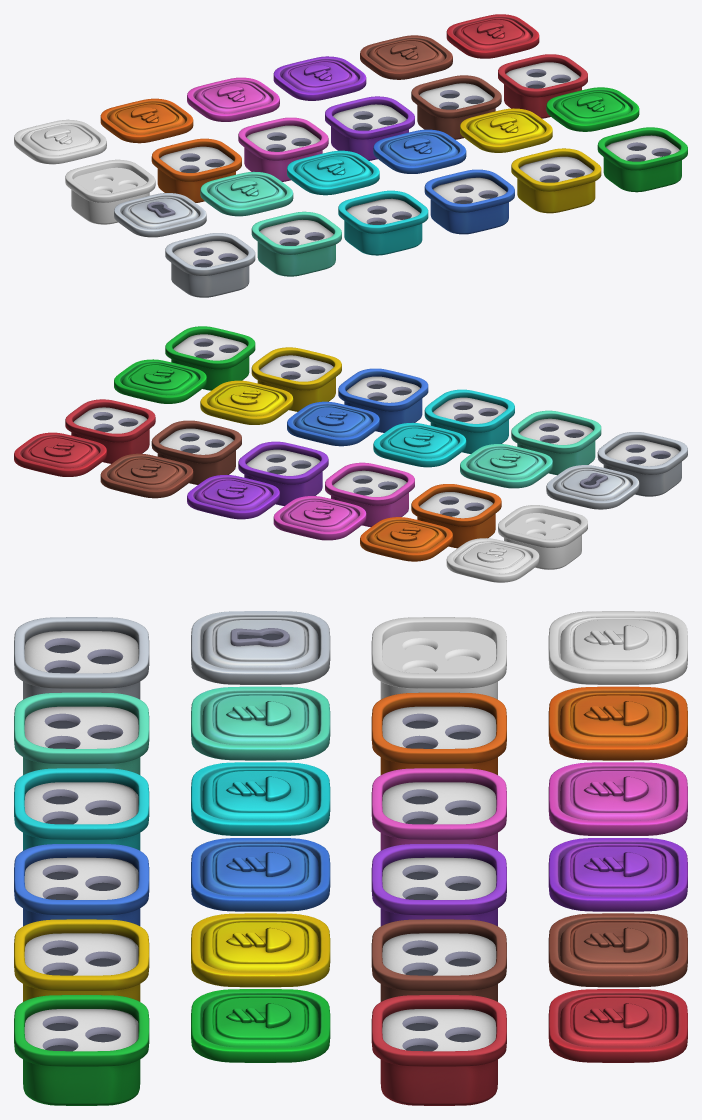
The model's file is pack_tray_lid_new.fbx.
3 views of the same model, one above another, from view 1: azimuth 30°, elevation 25°; view 2: azimuth 150°, elevation 25°; view 3: azimuth 270°, elevation 25° (orthographic). The views are drawn at different scales.
Parts seen in each view (by area): view 1: obj_tray_cyan, obj_tray_yellow, obj_tray_blue, obj_tray_green, obj_tray_unblock, obj_tray_gray, obj_tray_begie, obj_tray_orange, obj_tray_brown, obj_tray_pink, obj_tray_pur, obj_tray_red (+12 smaller); view 2: obj_tray_unblock, obj_tray_begie, obj_tray_green, obj_tray_red, obj_tray_gray, obj_tray_blue, obj_tray_pur, obj_tray_orange, obj_tray_brown, obj_tray_yellow, obj_tray_cyan, obj_tray_pink (+12 smaller); view 3: obj_tray_green, obj_tray_red, obj_tray_gray, obj_tray_orange, obj_tray_brown, obj_tray_yellow, obj_tray_cyan, obj_tray_pink, obj_tray_unblock, obj_tray_pur, obj_tray_blue, obj_tray_begie (+12 smaller).
Part boxes in pixels (box(x1,y1,x2,y2)): obj_tray_cyan: box(338, 190, 428, 255); obj_tray_yellow: box(511, 148, 601, 213); obj_tray_blue: box(424, 169, 514, 234); obj_tray_green: box(597, 127, 687, 192); obj_tray_unblock: box(165, 233, 255, 297); obj_tray_gray: box(251, 211, 341, 276); obj_tray_begie: box(65, 159, 155, 224); obj_tray_orange: box(151, 138, 241, 202); obj_tray_brown: box(411, 75, 501, 139); obj_tray_pink: box(238, 117, 328, 181); obj_tray_pur: box(325, 96, 414, 160); obj_tray_red: box(498, 54, 587, 118); obj_tray_unblock: box(597, 432, 687, 496); obj_tray_begie: box(498, 505, 587, 569); obj_tray_green: box(165, 326, 255, 390); obj_tray_red: box(65, 399, 155, 463); obj_tray_gray: box(511, 410, 601, 475); obj_tray_blue: box(338, 368, 428, 432); obj_tray_pur: box(238, 441, 328, 505); obj_tray_orange: box(411, 484, 501, 548); obj_tray_brown: box(151, 420, 241, 484); obj_tray_yellow: box(251, 347, 341, 411); obj_tray_cyan: box(424, 389, 514, 453); obj_tray_pink: box(325, 462, 414, 527); obj_tray_green: box(14, 995, 149, 1105); obj_tray_red: box(371, 995, 506, 1105); obj_tray_gray: box(14, 692, 149, 774); obj_tray_orange: box(371, 692, 506, 774); obj_tray_brown: box(371, 919, 506, 1001); obj_tray_yellow: box(14, 919, 149, 1001); obj_tray_cyan: box(14, 768, 149, 850); obj_tray_pink: box(371, 768, 506, 850); obj_tray_unblock: box(14, 617, 149, 699); obj_tray_pur: box(371, 844, 506, 926); obj_tray_blue: box(14, 844, 149, 926); obj_tray_begie: box(371, 617, 506, 699).
Size of the model in its own units: 17.49 by 1.26 by 11.31.
